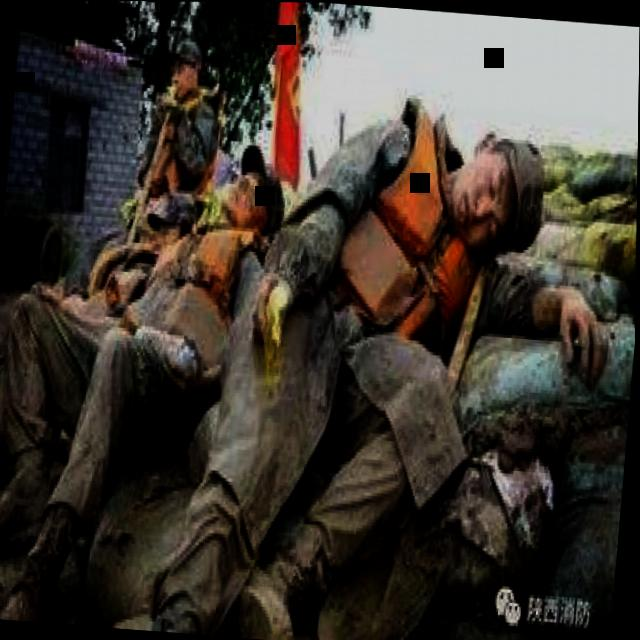Fall-Detected: (0, 143, 244, 595)
